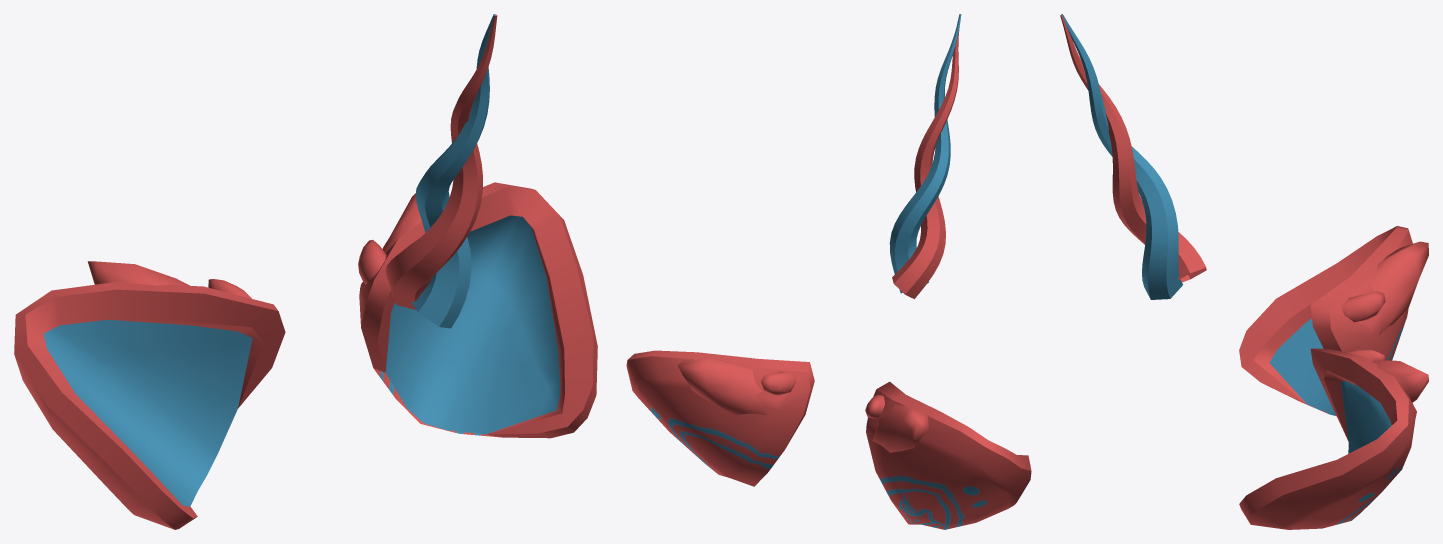
The model's file is SM_catgirlunicorn.fbx.
3 views of the same model, side by side, from view 1: azimuth 30°, elevation 25°; view 2: azimuth 150°, elevation 25°; view 3: azimuth 270°, elevation 25° (orthographic). The views are drawn at different scales.
Visible parts, largest first — view 1: SM_catgirl; view 2: SM_catgirl; view 3: SM_catgirl.
Part boxes in pixels (x1,y1,x2,y2): SM_catgirl: (14,14,597,529); SM_catgirl: (626,14,1031,529); SM_catgirl: (1060,14,1428,529).
Bounding box in the file's own units: 65.26 × 65.53 × 48.45.
